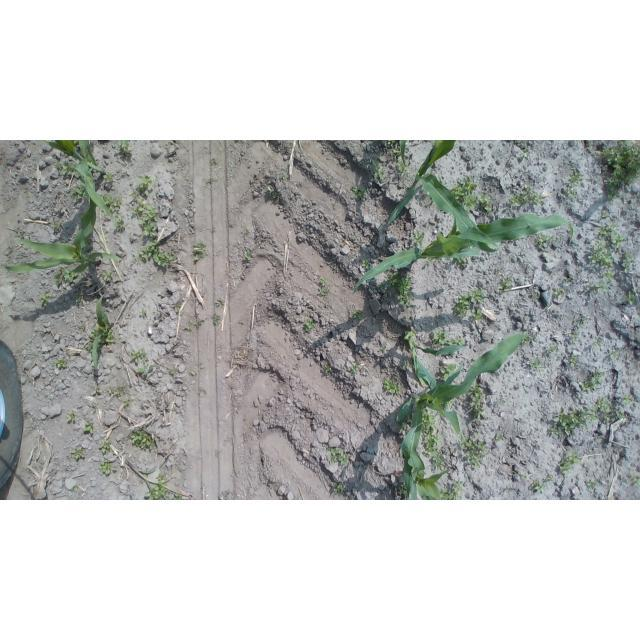Maize: (353, 213, 574, 290), (397, 335, 530, 442), (387, 140, 500, 254), (1, 201, 124, 274), (44, 140, 116, 216), (402, 329, 466, 391), (401, 424, 450, 500), (91, 294, 110, 371)
Weeds: (128, 173, 177, 270), (600, 141, 640, 200), (420, 408, 444, 470), (549, 407, 600, 436), (459, 436, 491, 469), (448, 175, 477, 211), (452, 288, 484, 320), (145, 474, 184, 500), (508, 186, 545, 207), (599, 221, 625, 250), (587, 240, 613, 268), (468, 384, 486, 421), (130, 430, 158, 451), (432, 328, 464, 346), (560, 450, 582, 476), (398, 275, 415, 307), (325, 444, 349, 466), (580, 372, 605, 393), (113, 140, 134, 164), (53, 267, 80, 285), (566, 169, 582, 199), (440, 480, 463, 500), (55, 161, 82, 178), (71, 180, 89, 205), (102, 193, 123, 213), (97, 459, 120, 476), (84, 327, 97, 357), (191, 240, 208, 262), (584, 281, 608, 296), (128, 349, 148, 365), (535, 233, 556, 248), (440, 363, 457, 381), (478, 193, 492, 214), (371, 160, 385, 181), (596, 396, 613, 413), (383, 380, 402, 395), (102, 327, 116, 346), (412, 228, 425, 248), (107, 384, 126, 397), (497, 278, 512, 294), (111, 215, 125, 231), (135, 365, 155, 376), (528, 481, 548, 492), (184, 320, 202, 332), (398, 416, 412, 431), (352, 184, 367, 198), (622, 254, 633, 273), (529, 360, 544, 373), (71, 447, 87, 459), (386, 272, 398, 288), (98, 440, 112, 453), (267, 186, 281, 199), (396, 162, 409, 176), (628, 472, 640, 486), (399, 484, 409, 500), (82, 421, 94, 434), (333, 483, 346, 495), (574, 316, 586, 329), (624, 293, 636, 306), (603, 270, 616, 282), (304, 318, 316, 331), (568, 354, 579, 368), (453, 256, 468, 266), (40, 293, 52, 305), (51, 220, 64, 231), (242, 249, 253, 261), (609, 349, 621, 360), (352, 310, 364, 321), (103, 171, 113, 184), (54, 359, 68, 368), (75, 292, 84, 304), (586, 481, 598, 490), (552, 289, 564, 298), (362, 259, 371, 271), (515, 472, 528, 480), (521, 333, 531, 343), (400, 360, 410, 370), (104, 271, 113, 282), (66, 412, 75, 423), (623, 396, 634, 405), (319, 289, 328, 300), (379, 282, 388, 293), (520, 146, 528, 158), (176, 303, 184, 315), (425, 192, 432, 205), (495, 432, 505, 441), (615, 410, 625, 419), (392, 145, 401, 155), (212, 316, 221, 325), (548, 345, 558, 353), (348, 364, 358, 372), (572, 332, 580, 341), (279, 173, 289, 180), (124, 397, 132, 405), (220, 492, 228, 500), (602, 210, 610, 218), (531, 292, 540, 299), (325, 366, 334, 373), (320, 278, 329, 285), (72, 484, 79, 492), (605, 413, 612, 421), (563, 277, 571, 284), (595, 339, 601, 348), (90, 403, 96, 412), (216, 301, 225, 307), (245, 229, 252, 236), (170, 368, 177, 375), (474, 430, 481, 437), (94, 387, 102, 393), (211, 157, 219, 163), (189, 371, 196, 377), (547, 475, 554, 481), (381, 345, 388, 351), (140, 309, 147, 315), (500, 398, 505, 405), (426, 258, 433, 263), (207, 179, 212, 186), (387, 140, 395, 144), (451, 448, 456, 454), (506, 488, 512, 493), (447, 401, 453, 405), (597, 438, 601, 443), (450, 352, 454, 357), (636, 360, 640, 364), (516, 141, 521, 144)
